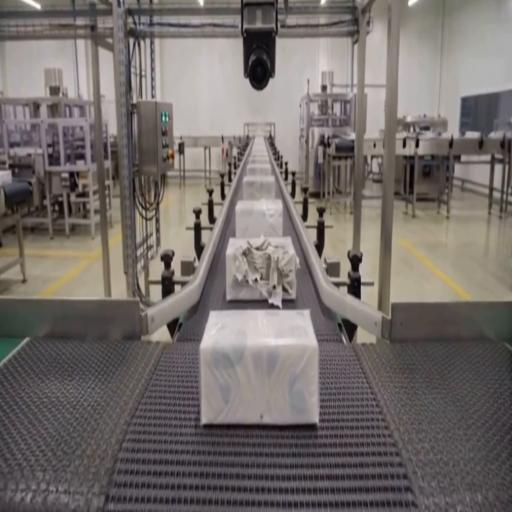defective: (200, 308, 318, 427), (226, 236, 299, 303)
good: (234, 198, 282, 240), (242, 176, 278, 208), (246, 139, 272, 163), (245, 160, 272, 178)
